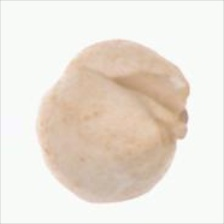L1: (125, 73, 188, 150)
L2: (35, 40, 190, 204)
